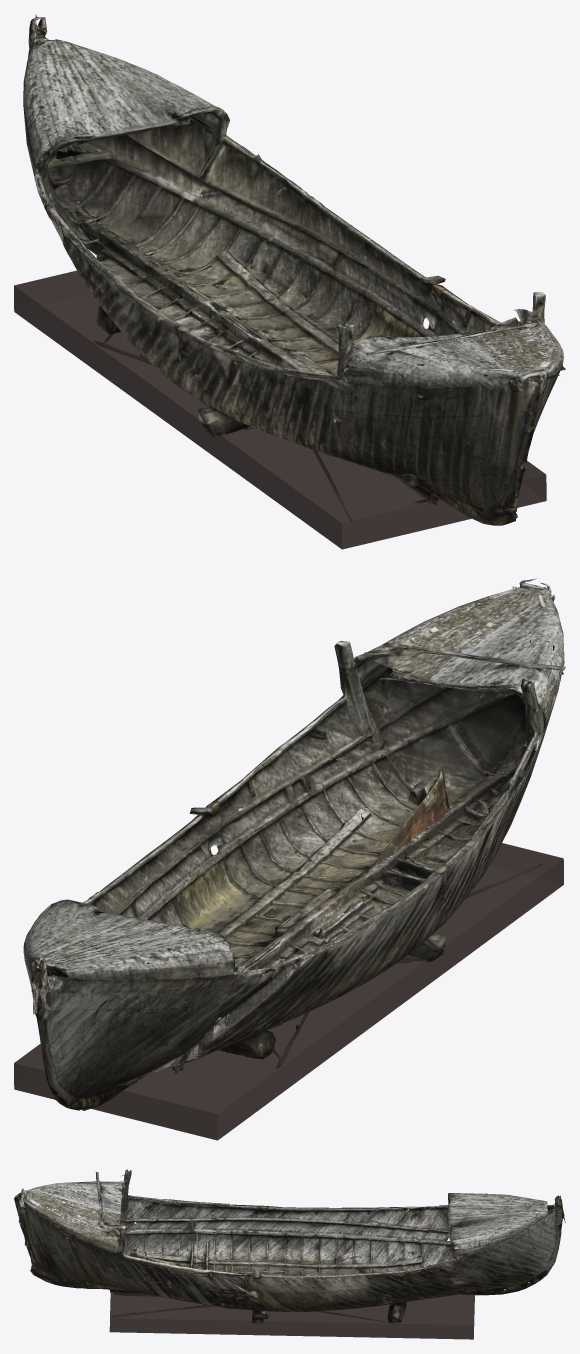
Rendered from rnlb-jane-anne.glb.
The picture shows the model from 3 angles, top to bottom: view 1: azimuth 30°, elevation 25°; view 2: azimuth 150°, elevation 25°; view 3: azimuth 270°, elevation 25°; orthographic projection. The views are drawn at different scales.
Parts seen in each view (by area): view 1: default_Material #25_0 (×2), Box001; view 2: default_Material #25_0 (×2), Box001; view 3: default_Material #25_0 (×2), Box001.
Boxes of the visible parts, x1,y1,x2,y2 form: default_Material #25_0 (×2): (23, 14, 565, 525); Box001: (14, 267, 546, 549); default_Material #25_0 (×2): (23, 578, 565, 1110); Box001: (14, 828, 563, 1140); default_Material #25_0 (×2): (14, 1169, 565, 1323); Box001: (109, 1292, 474, 1339).
Bounding box in the file's own units: 3.29 × 2.74 × 11.12.
Materials: 2 (1 with a texture image).
